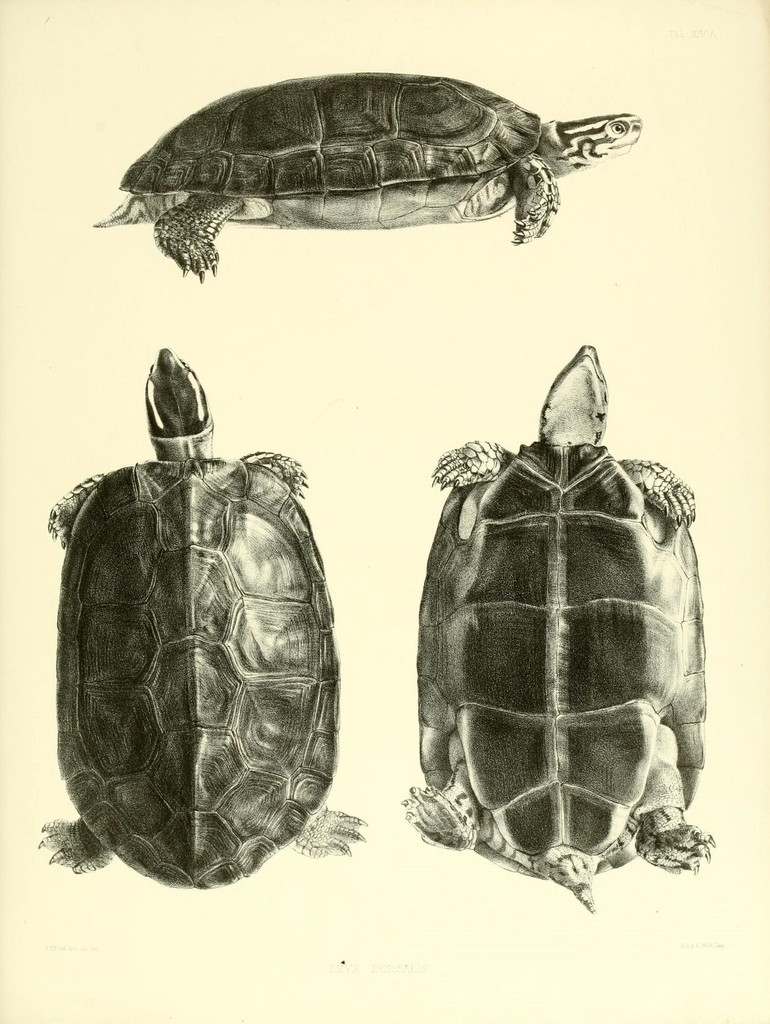Sea turtles: (27, 336, 366, 896), (400, 337, 721, 919), (87, 63, 643, 282)
